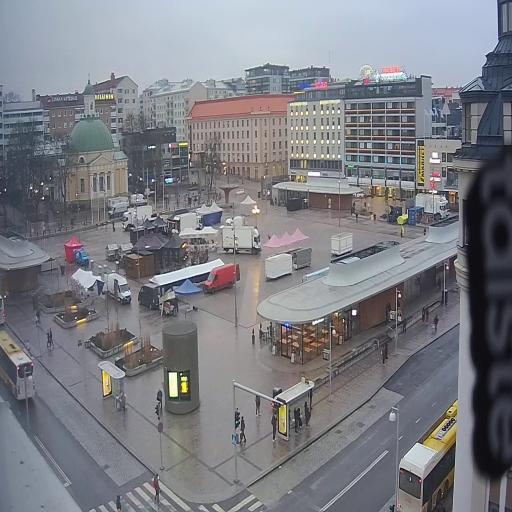bus: (392, 392, 462, 512), (0, 327, 42, 403), (0, 294, 10, 330)
delivery: (201, 260, 243, 299), (220, 224, 263, 258), (102, 268, 134, 310), (412, 190, 448, 222), (119, 202, 156, 231), (138, 281, 165, 314), (173, 209, 203, 236), (106, 198, 130, 221), (224, 209, 246, 231), (72, 248, 94, 269), (130, 187, 150, 208)
